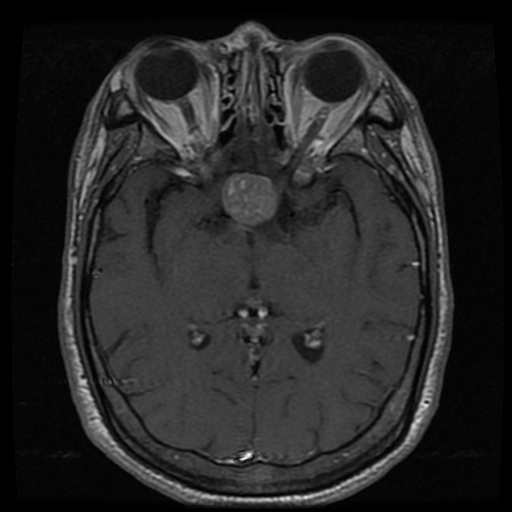pituitary: (224, 173, 277, 223)
